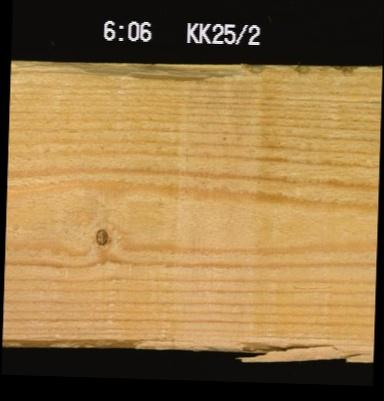dry_knot: (92, 224, 108, 244)
wave: (10, 61, 261, 79), (1, 325, 186, 347), (233, 331, 373, 352)
